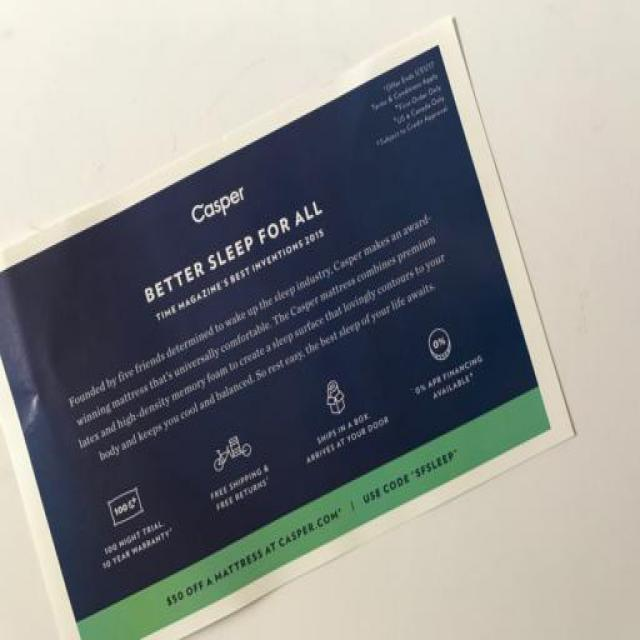paper: (2, 34, 587, 620)
